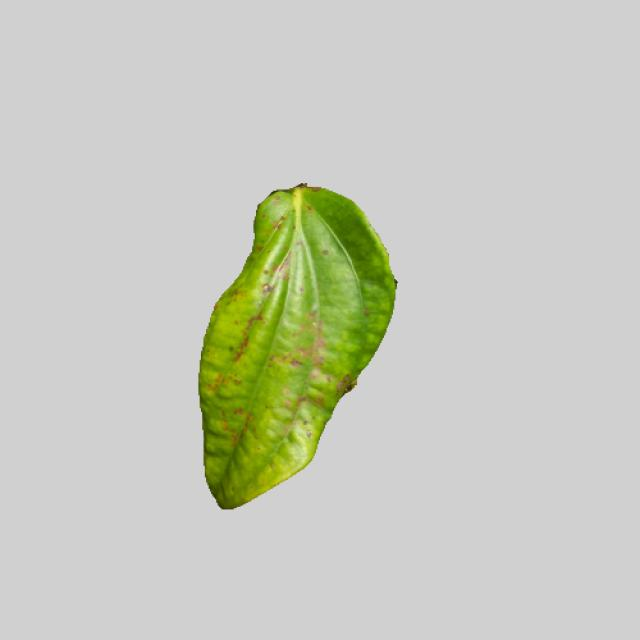yellow-mottle-virus: (184, 179, 403, 508)
